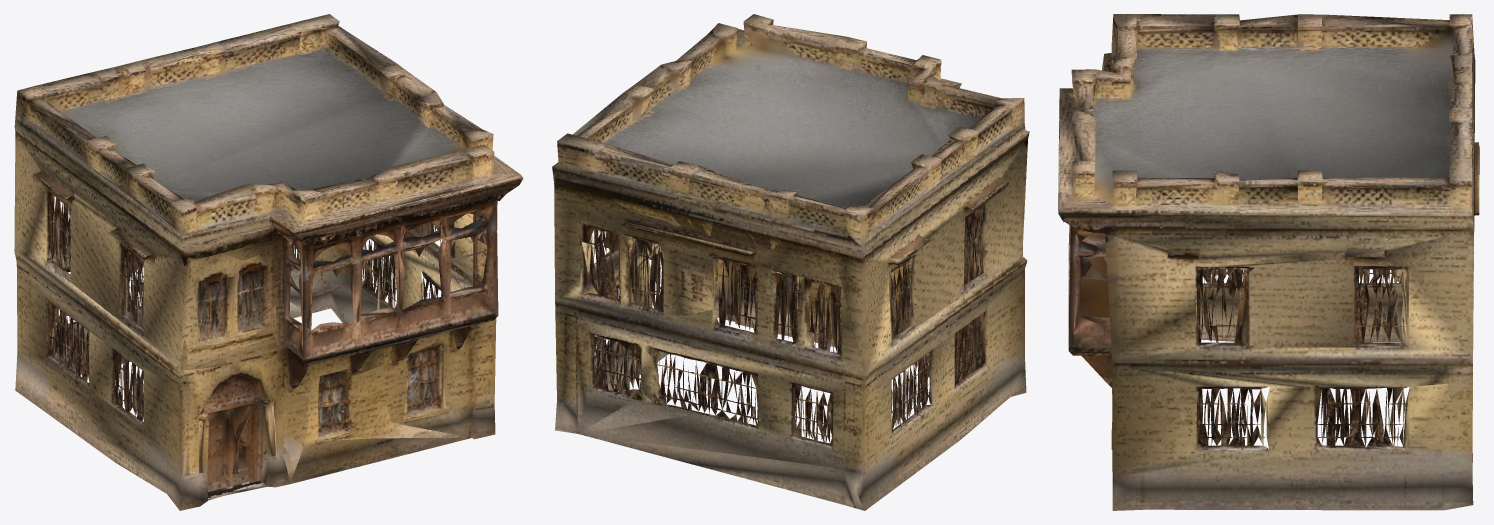
File: bld_shanasheel_far.glb
The picture shows the model from 3 angles, left to right: view 1: azimuth 30°, elevation 25°; view 2: azimuth 150°, elevation 25°; view 3: azimuth 270°, elevation 25°; orthographic projection. The views are drawn at different scales.
Visible parts, largest first — view 1: geometry_0; view 2: geometry_0; view 3: geometry_0.
Boxes of the visible parts, x1,y1,x2,y2 form: geometry_0: [14, 14, 523, 510]; geometry_0: [552, 14, 1029, 510]; geometry_0: [1058, 14, 1479, 510].
Size of the model in its own units: 0.748 by 0.6445 by 0.7473.
Materials: 1 (1 with a texture image).
